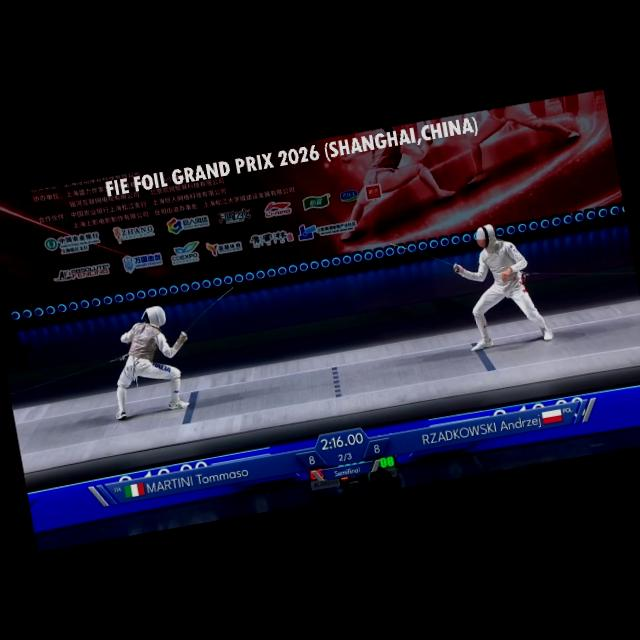blade: (386, 228, 467, 286), (171, 283, 243, 342)
